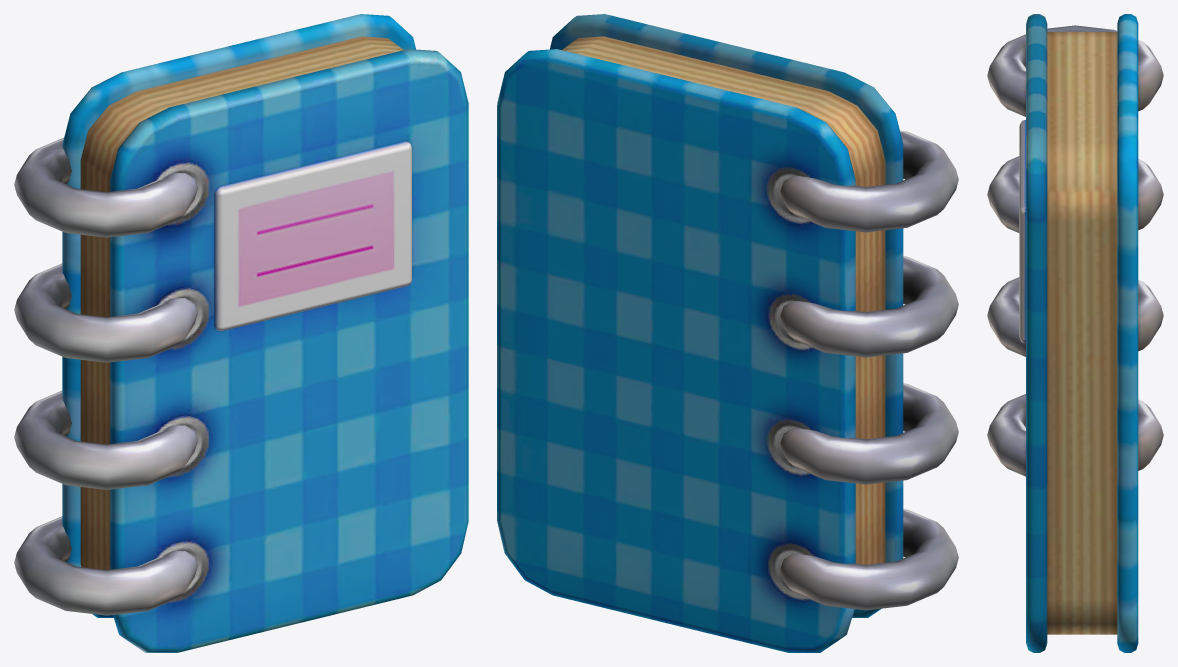
Rendered from 0-notebook_blue.fbx.
The picture shows the model from 3 angles, left to right: view 1: azimuth 30°, elevation 25°; view 2: azimuth 150°, elevation 25°; view 3: azimuth 270°, elevation 25°; orthographic projection. The views are drawn at different scales.
Parts seen in each view (by area): view 1: 0-notebook_blue; view 2: 0-notebook_blue; view 3: 0-notebook_blue.
Boxes of the visible parts, box(x1,y1,x2,y2) form: 0-notebook_blue: box(14, 14, 468, 652); 0-notebook_blue: box(497, 14, 958, 652); 0-notebook_blue: box(987, 14, 1163, 652).
Size of the model in its own units: 77.97 by 96.54 by 29.85.
